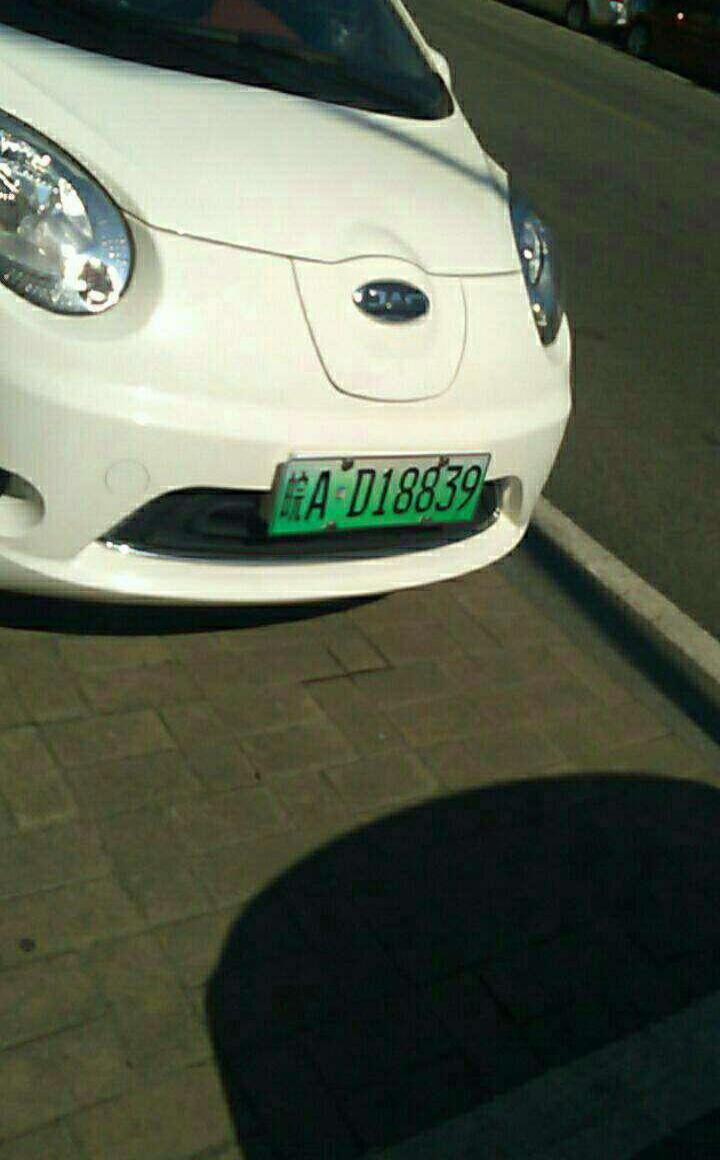car_id: (273, 453, 486, 531)
